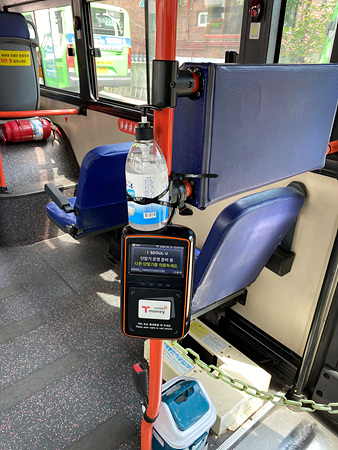terminal: (122, 221, 191, 340)
